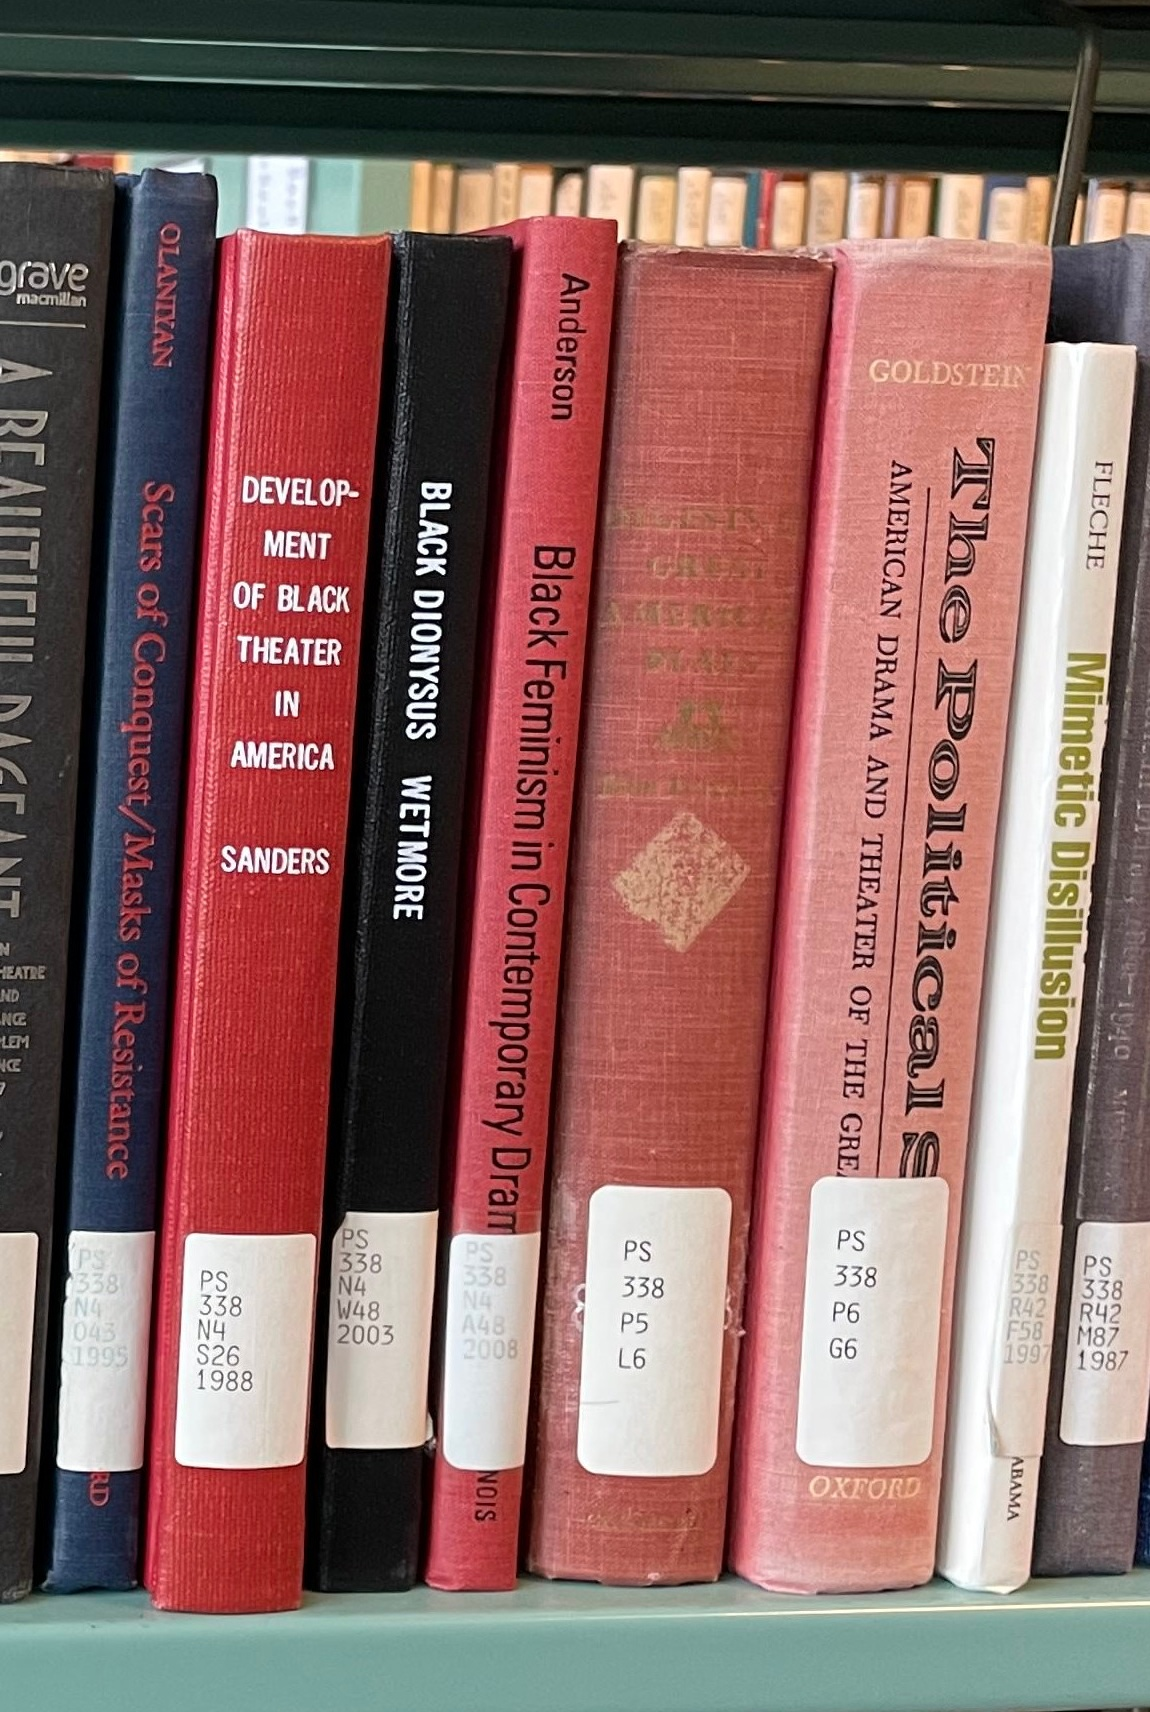call_number: (580, 1182, 719, 1475), (809, 1176, 940, 1466), (186, 1233, 307, 1466), (329, 1215, 427, 1448), (1069, 1219, 1150, 1455), (448, 1235, 528, 1471), (64, 1229, 142, 1466), (990, 1219, 1058, 1451)
